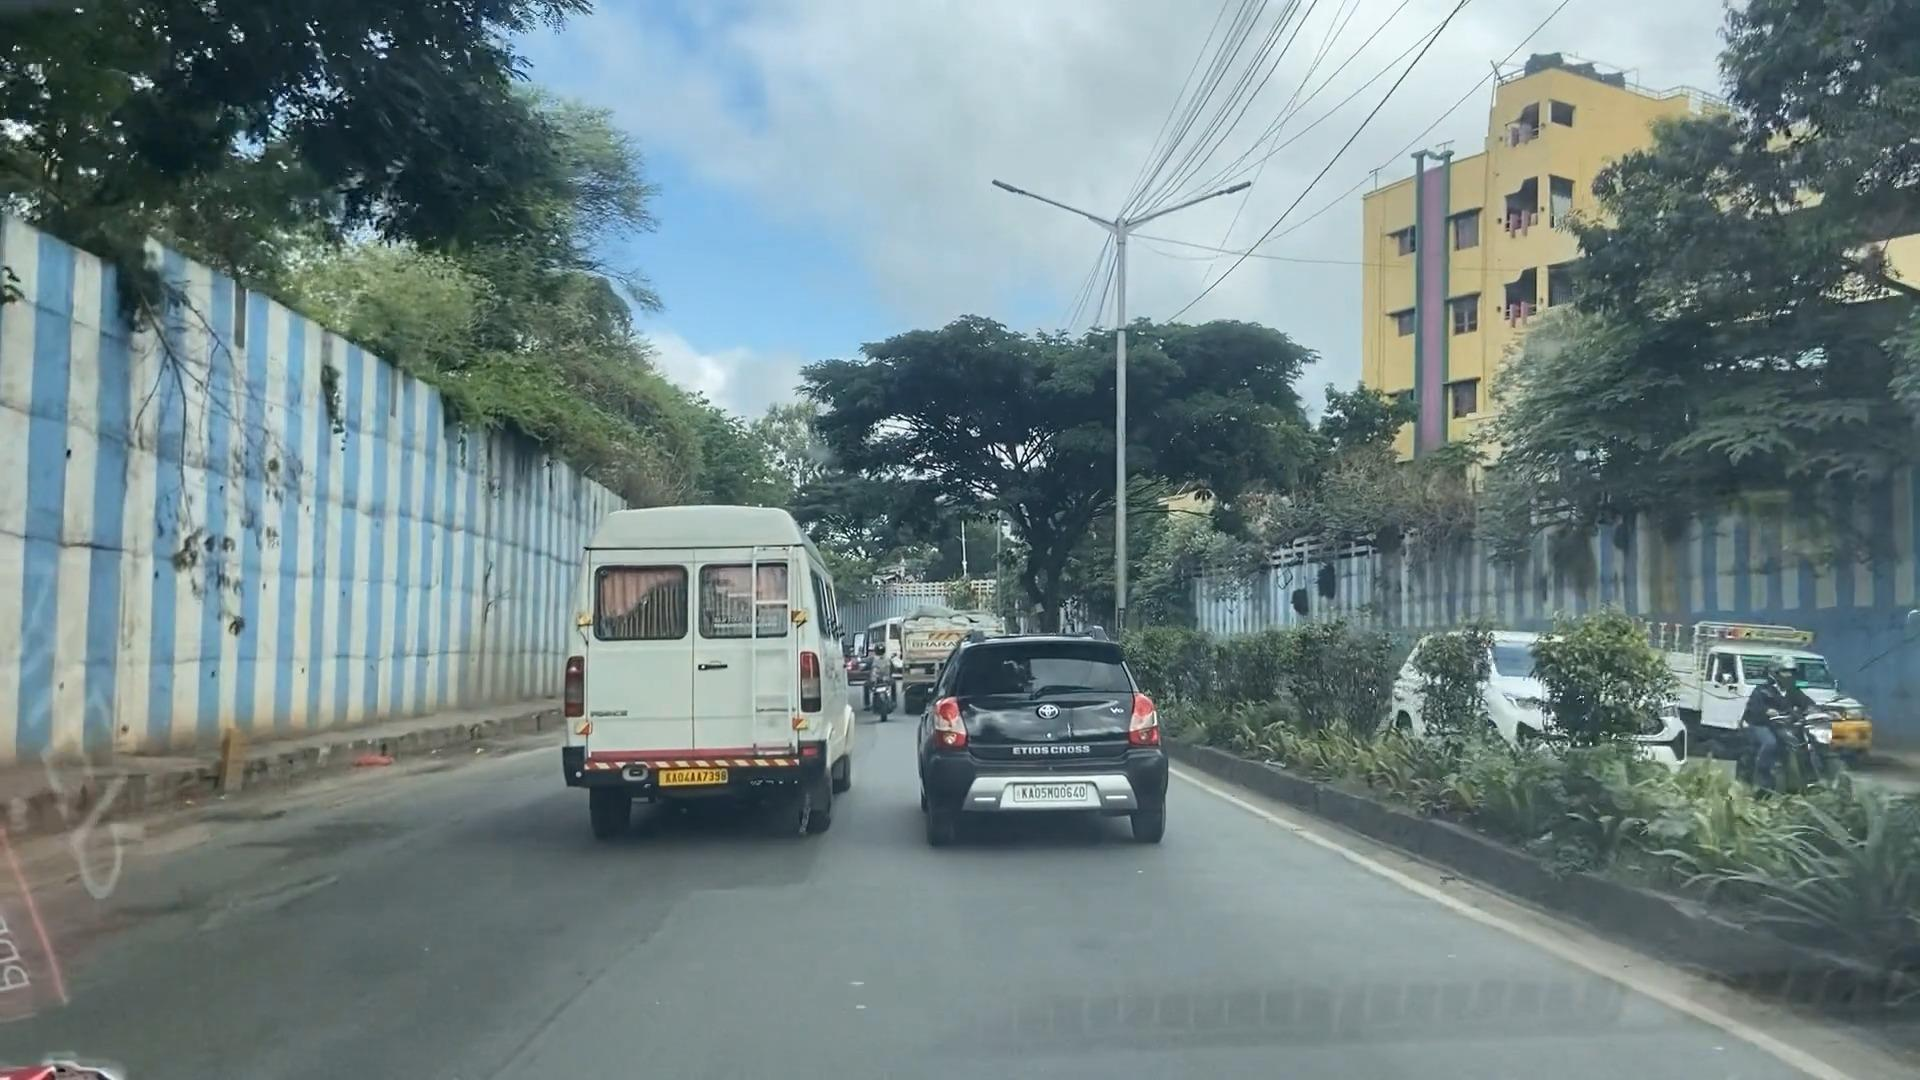HMV: (587, 513, 860, 818)
LMV: (931, 651, 1168, 831)
